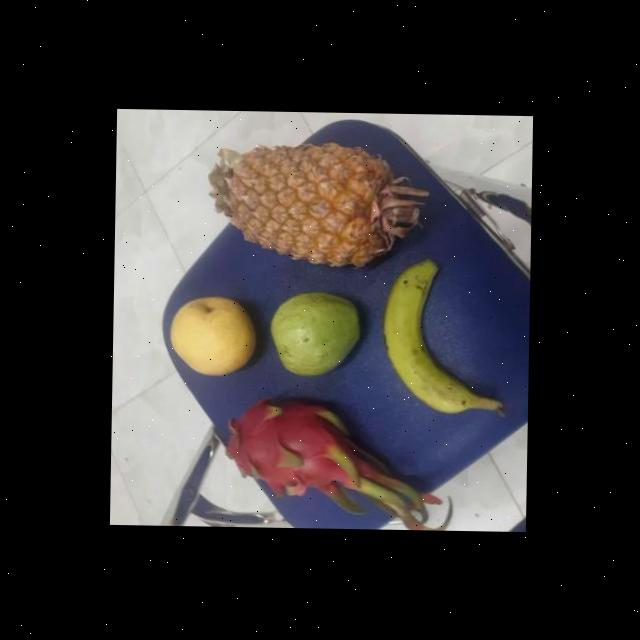banana: (379, 266, 486, 421)
guava: (270, 290, 360, 380)
pear: (169, 292, 257, 380)
pineapple: (212, 140, 418, 266)
pitaya: (222, 394, 352, 499)
